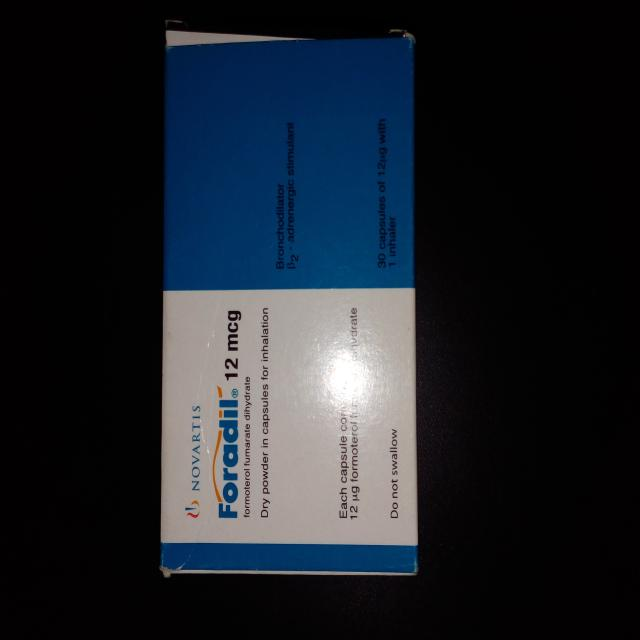Medicine: (157, 17, 422, 582)
